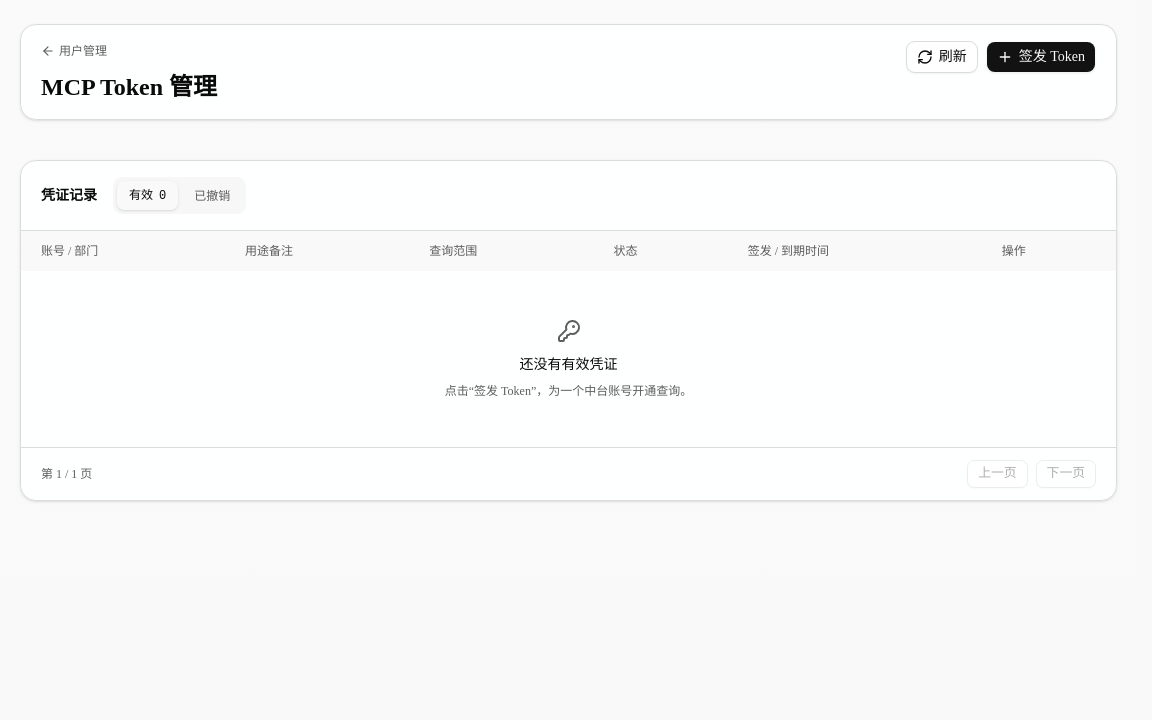
Test: MCP token administration › shows a manual-copy fallback if clipboard access fails
Click the button "签发 Token". click: (1041, 57)
box: [986, 41, 1096, 73]
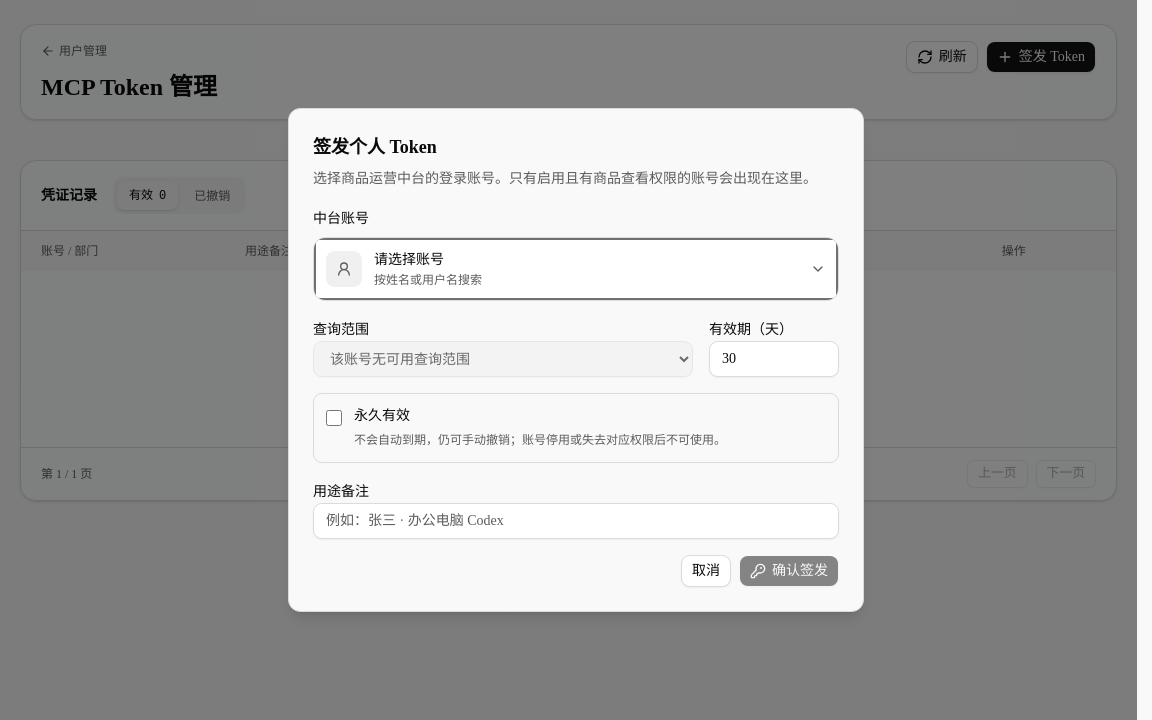
expect the button named "中台账号" is enabled: met
Click the button named "中台账号". click: (344, 269)
box: [314, 238, 838, 300]
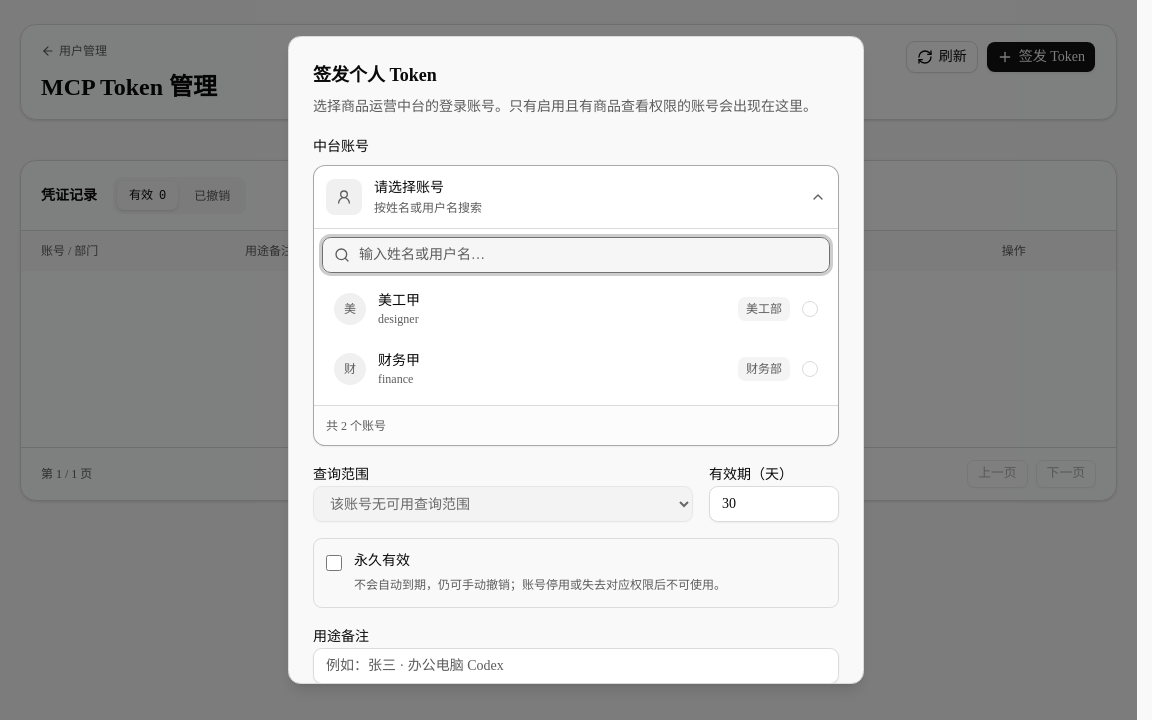
Click the radio button labelled "美 美工甲 designer 美工部". click: (350, 309)
box: [334, 293, 818, 326]
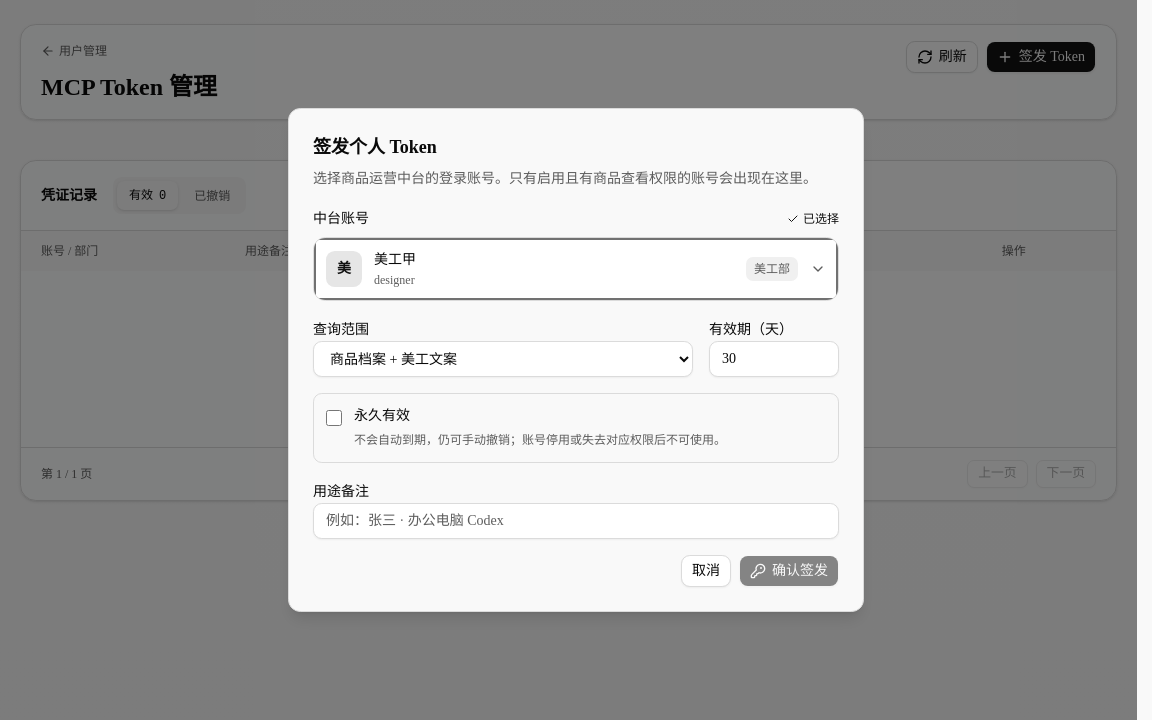
Type "办公电脑" into the field labelled "用途备注". click: (576, 521)
box: [313, 503, 839, 539]
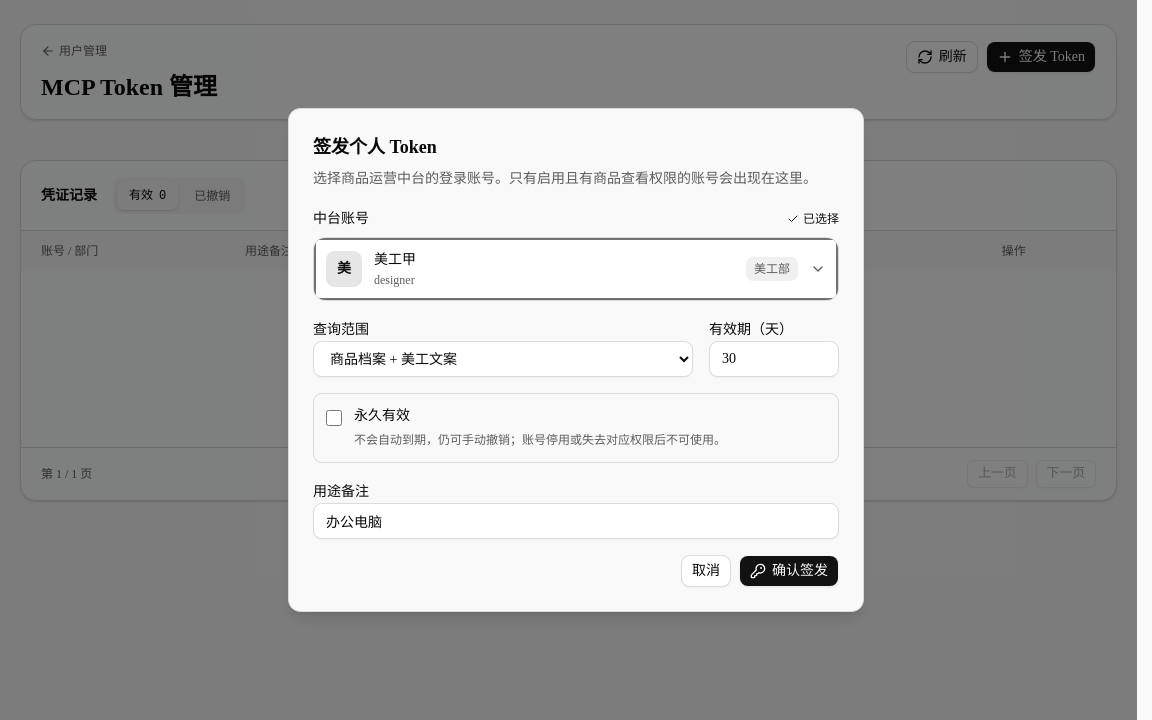
Click the button "确认签发". click: (789, 571)
box: [739, 555, 839, 587]
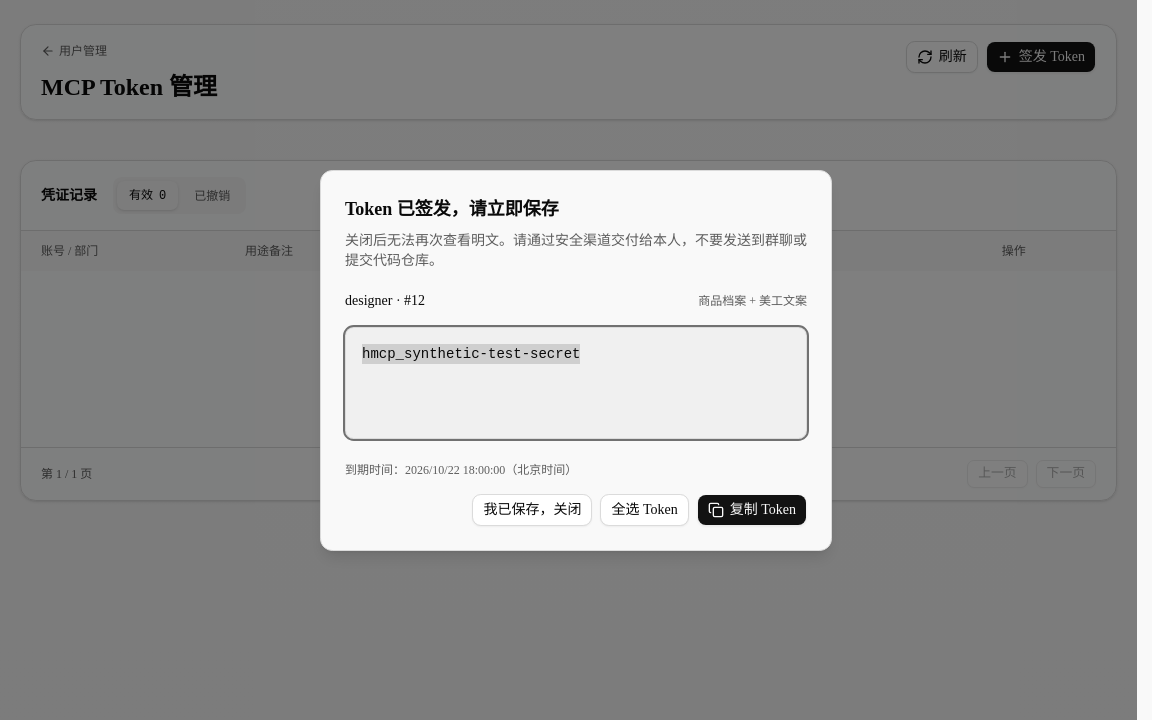
Click the button "复制 Token". click: (752, 510)
box: [697, 494, 807, 526]
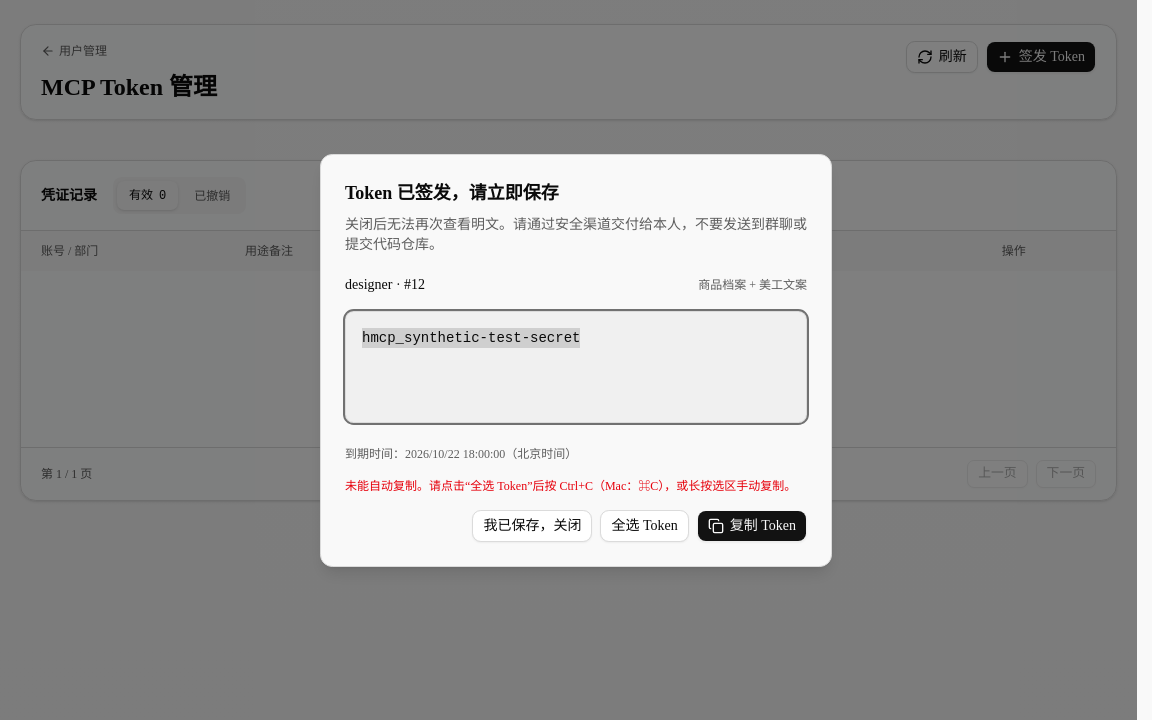
expect the text box named "新签发的 Token" holds "hmcp_synthetic-test-secret": met, box [345, 310, 807, 422]
expect the button "全选 Token" is enabled: met, box [600, 510, 689, 542]
expect the message shows "手动复制": met, box [345, 478, 796, 492]
